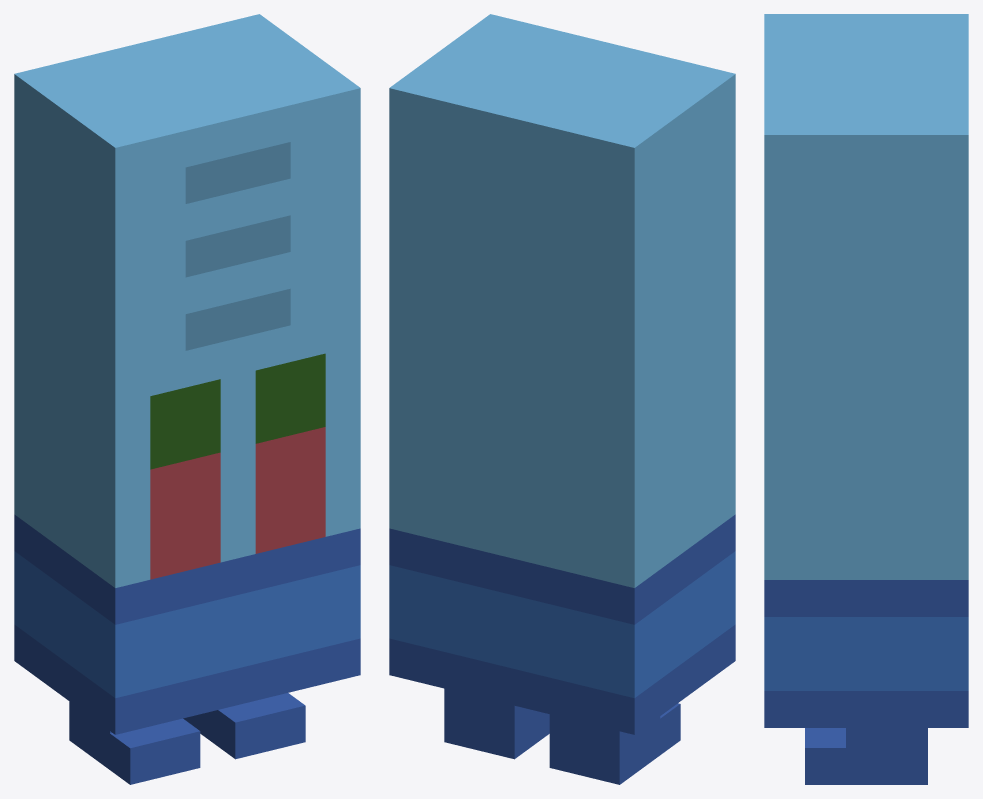
Rendered from amk_v2.glb.
3 renders of one model, left to right at view 1: azimuth 30°, elevation 25°; view 2: azimuth 150°, elevation 25°; view 3: azimuth 270°, elevation 25°, orthographic.
Parts seen in each view (by area): view 1: voxeldude-1-4; view 2: voxeldude-1-4; view 3: voxeldude-1-4.
Boxes of the visible parts, bbox=[...] form: voxeldude-1-4: bbox=[14, 14, 360, 784]; voxeldude-1-4: bbox=[389, 14, 735, 784]; voxeldude-1-4: bbox=[764, 14, 968, 784].
Bounding box in the file's own units: 7 × 18 × 5.
